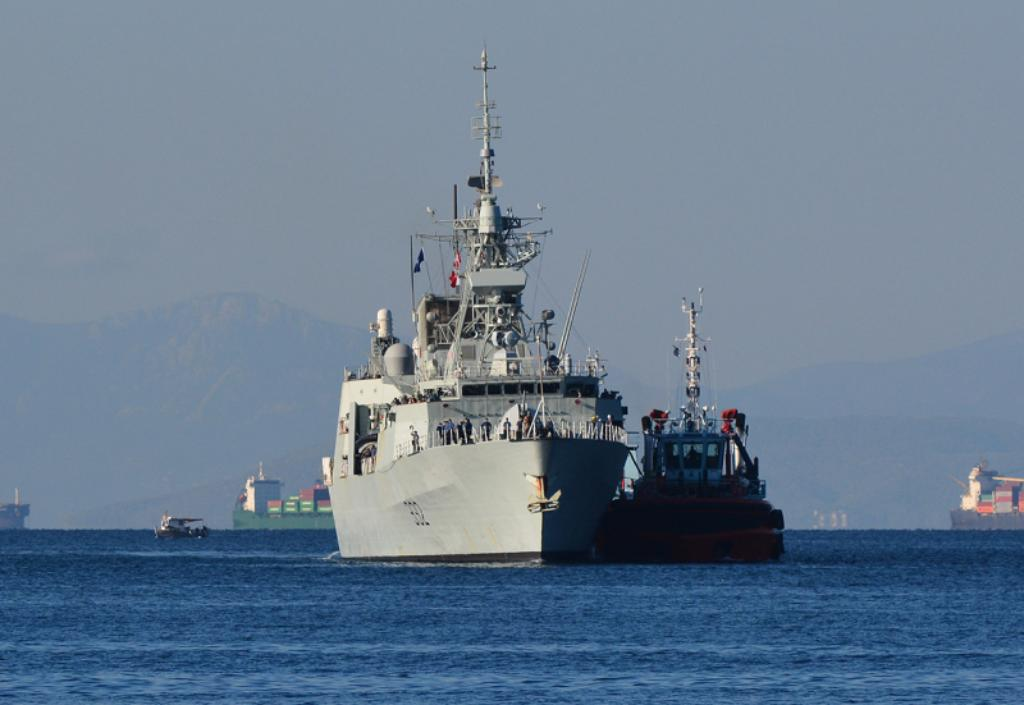Warship: (316, 24, 638, 572)
